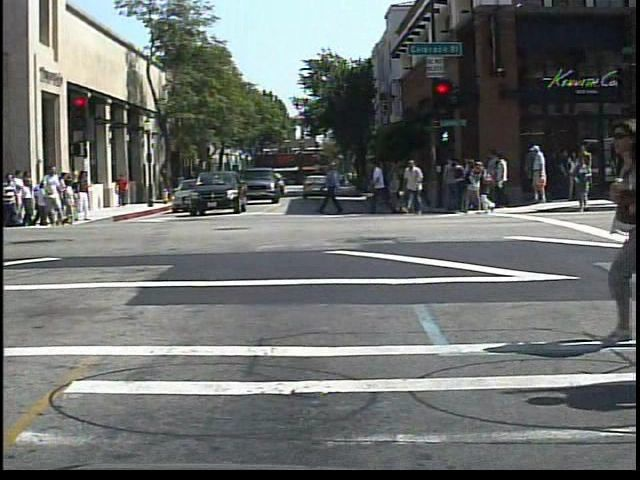person: (40, 164, 67, 230), (526, 144, 552, 207), (1, 168, 22, 230), (113, 173, 131, 210), (172, 169, 191, 198)
